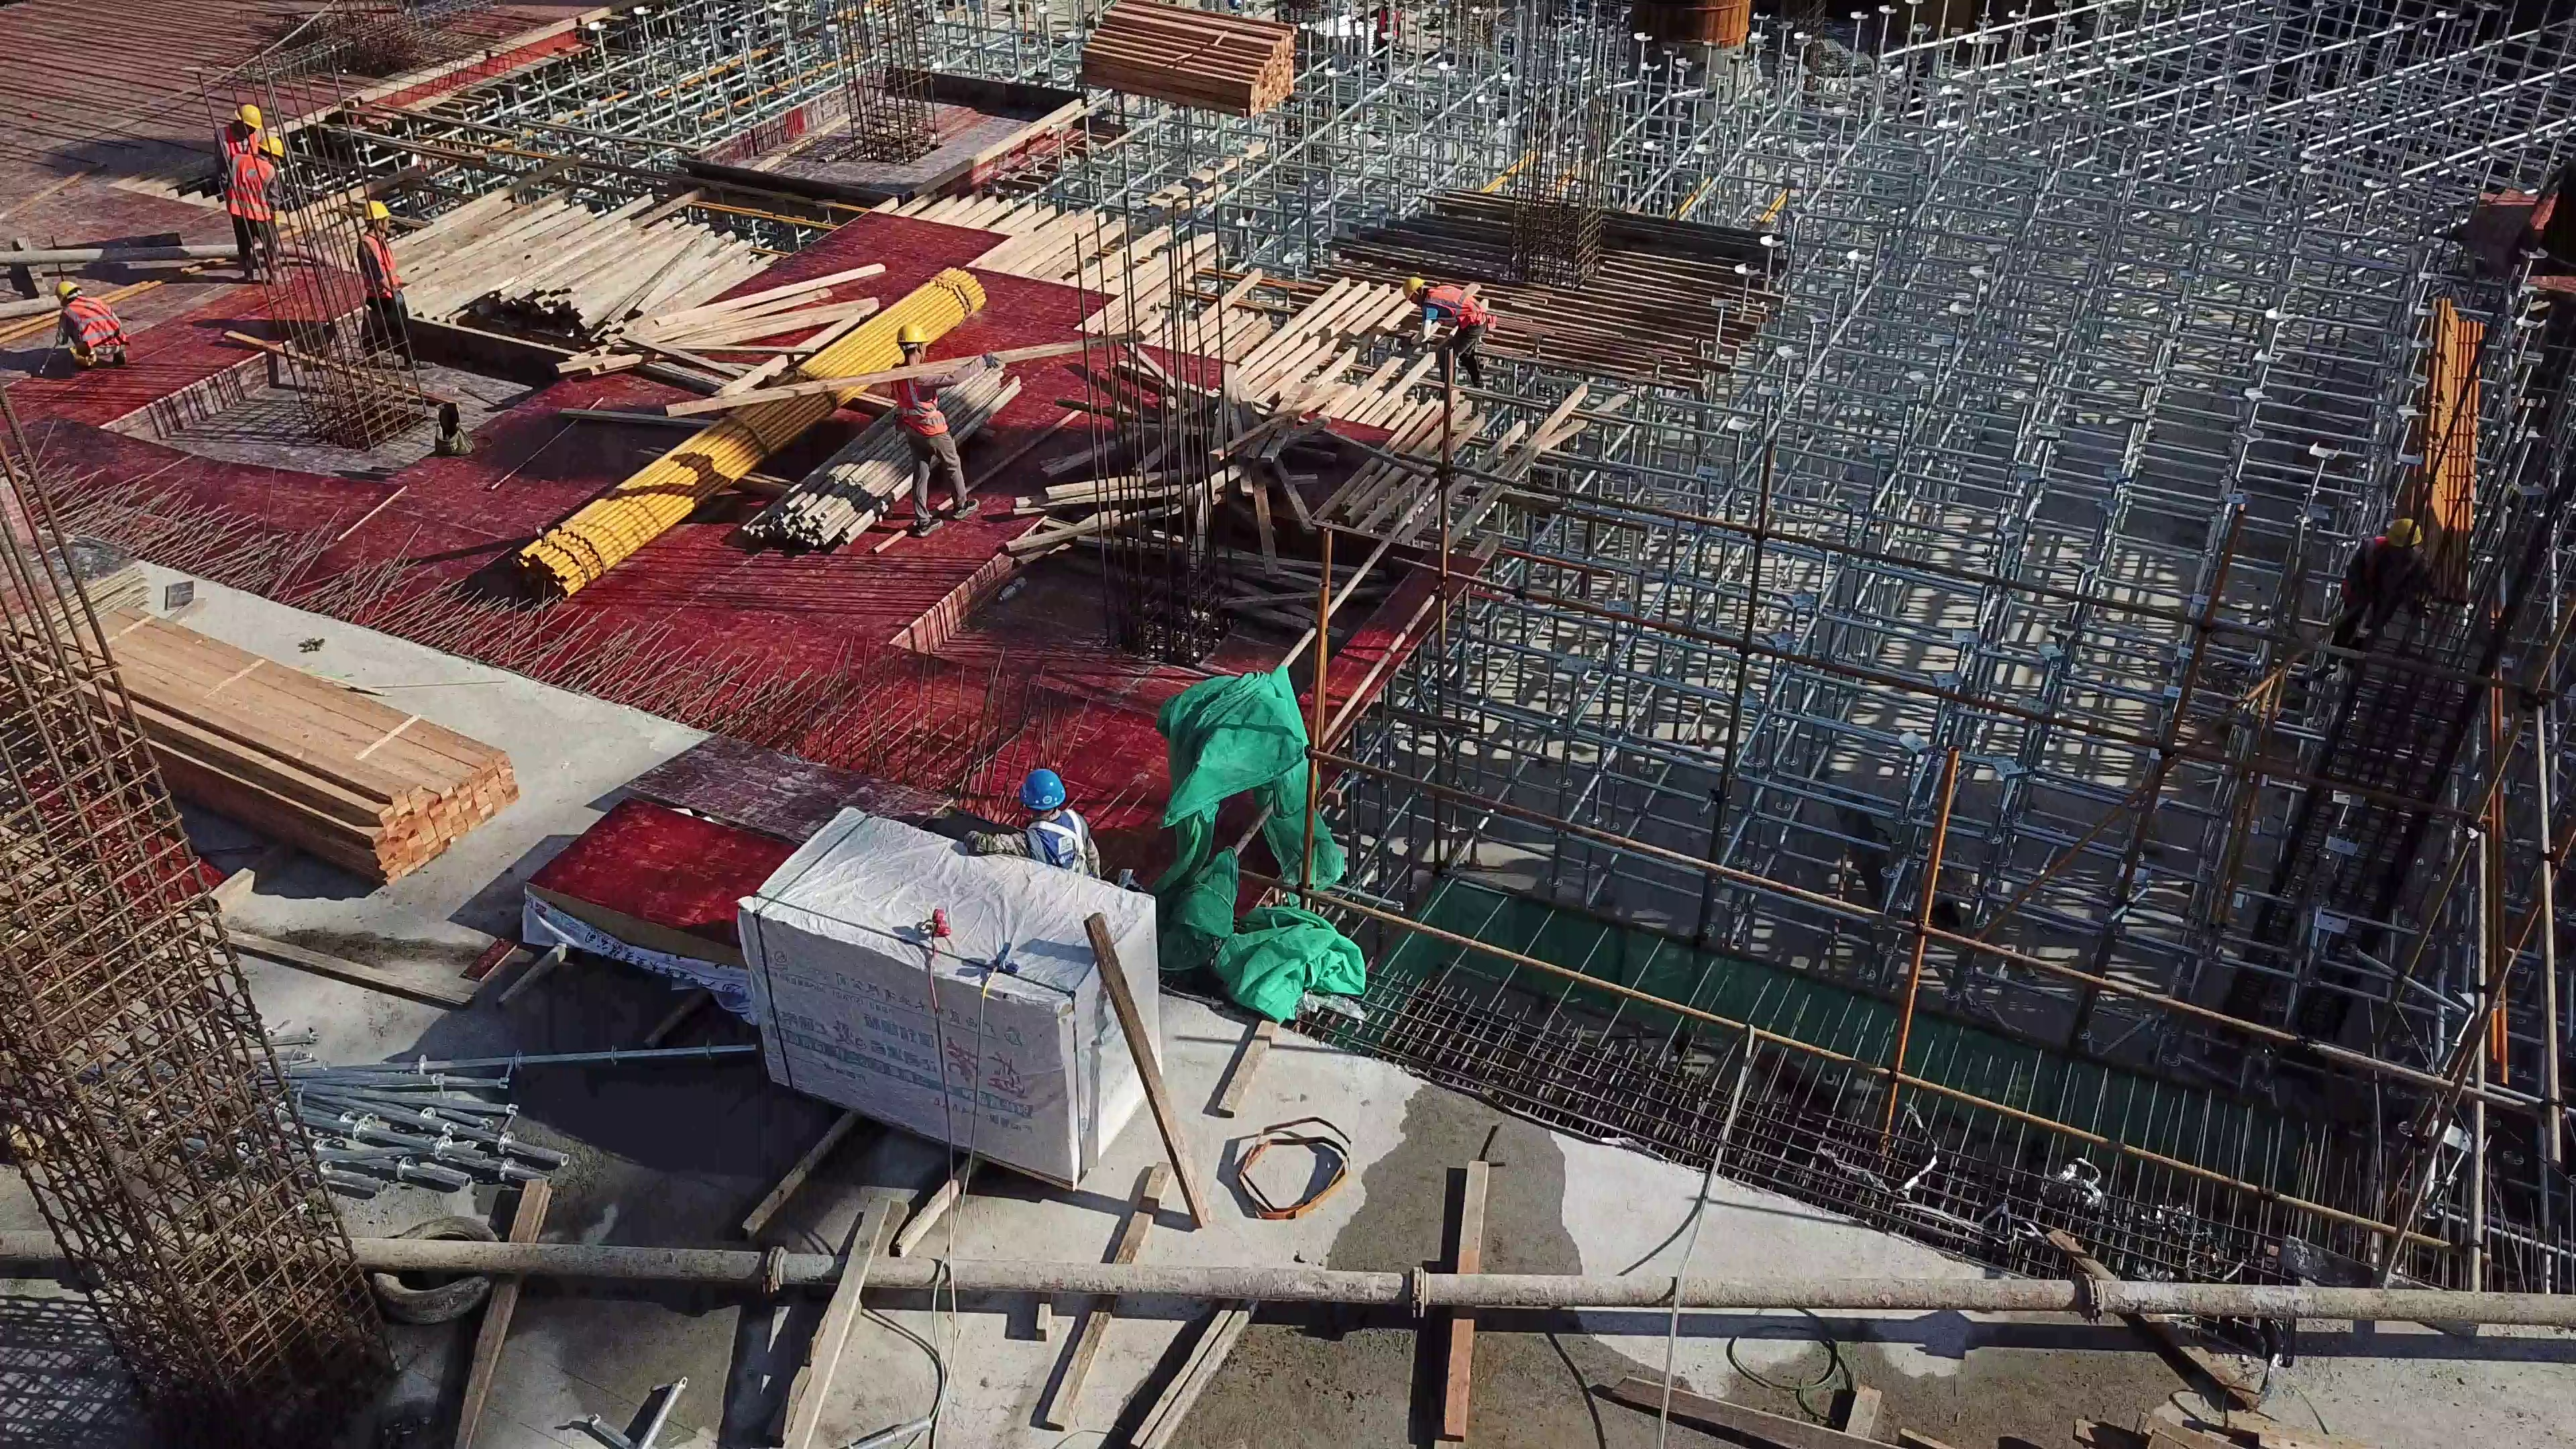board: (529, 816, 802, 977), (6, 528, 133, 663)
helmet: (1019, 767, 1069, 812), (2383, 519, 2424, 547), (361, 199, 392, 226), (234, 104, 266, 131), (254, 136, 289, 160), (896, 321, 928, 345), (1402, 275, 1424, 301), (52, 279, 82, 301)
person: (892, 323, 1003, 542), (2309, 516, 2422, 680), (965, 767, 1108, 879), (358, 199, 438, 375), (1401, 274, 1496, 393), (225, 137, 286, 290), (211, 103, 264, 268), (52, 282, 130, 365), (1356, 2, 1403, 66)
vest: (2340, 537, 2410, 608), (1028, 812, 1085, 870), (896, 373, 946, 438), (1428, 282, 1488, 333), (228, 150, 268, 221), (66, 297, 120, 349), (360, 231, 398, 297), (219, 125, 256, 156), (1381, 6, 1397, 39)
wood: (39, 596, 513, 879), (1075, 4, 1292, 116)
